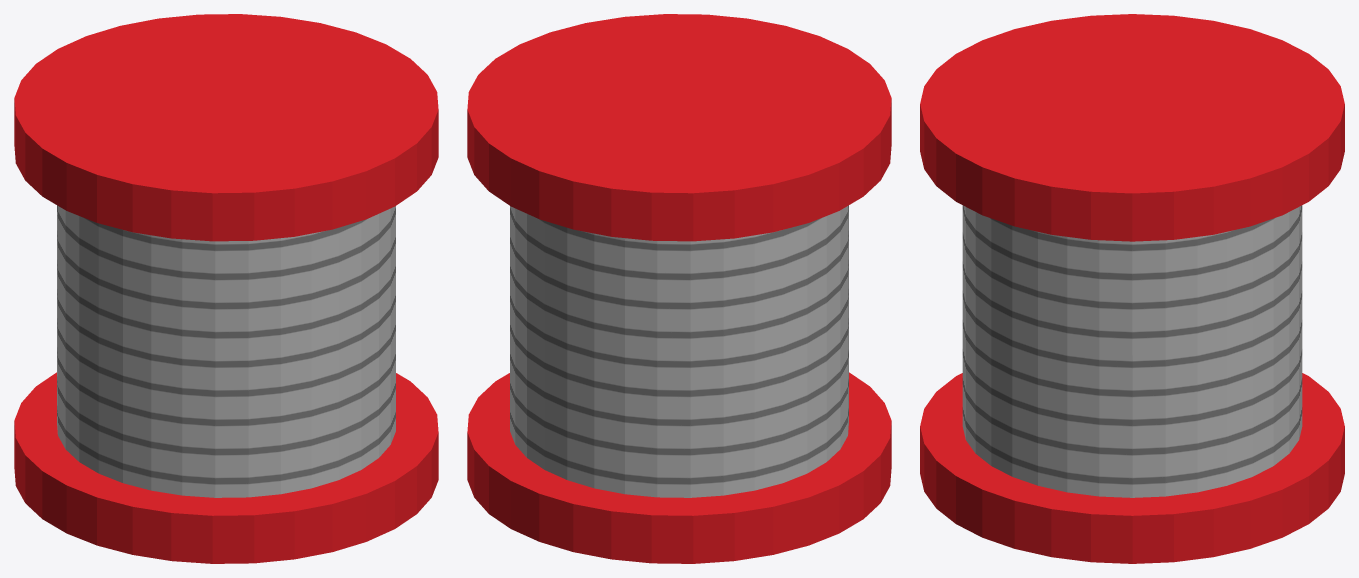
Rendered from Gimmick_Spring.fbx.
The picture shows the model from 3 angles, left to right: view 1: azimuth 30°, elevation 25°; view 2: azimuth 150°, elevation 25°; view 3: azimuth 270°, elevation 25°; orthographic projection.
Parts seen in each view (by area): view 1: 円柱.002; view 2: 円柱.002; view 3: 円柱.002.
Boxes of the visible parts, <box> form: 円柱.002: <box>14,14,438,563</box>; 円柱.002: <box>467,14,891,563</box>; 円柱.002: <box>920,14,1344,563</box>.
Size of the model in its own units: 1.01 by 0.9767 by 1.01.
Materials: 1 (1 with a texture image).
